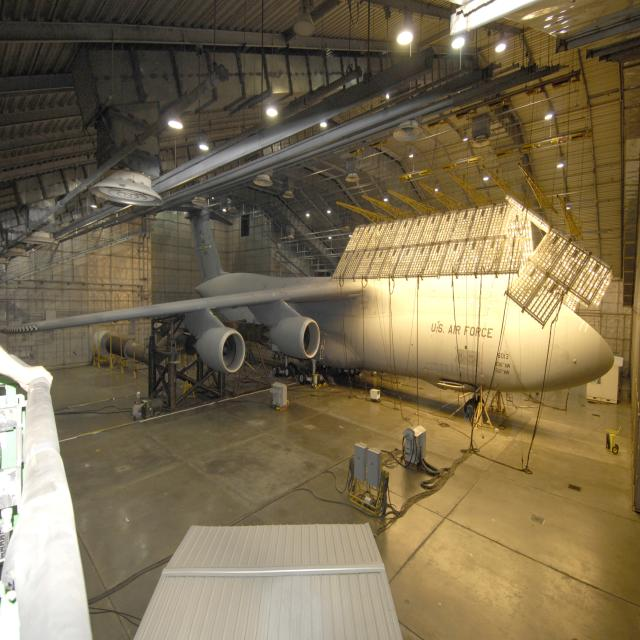MIL_Plane: (0, 159, 570, 373)
